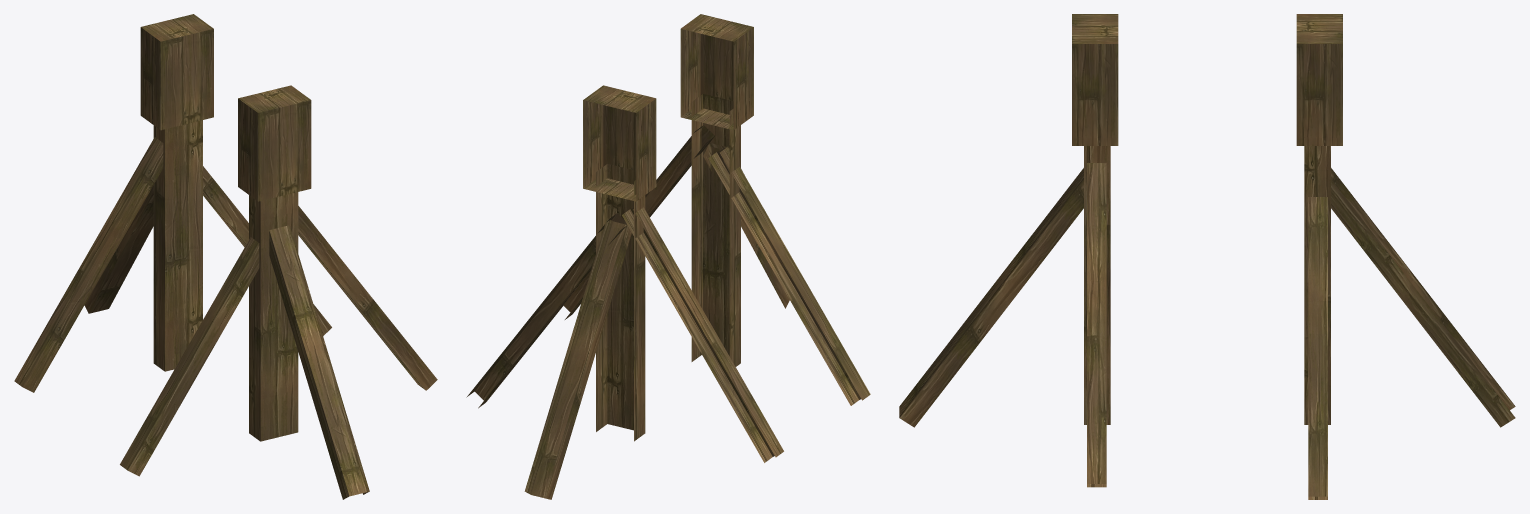
Rendered from SM_Town004_SCZJ.FBX.
3 views of the same model, side by side, from view 1: azimuth 30°, elevation 25°; view 2: azimuth 150°, elevation 25°; view 3: azimuth 270°, elevation 25° (orthographic). The views are drawn at different scales.
Parts seen in each view (by area): view 1: Box02; view 2: Box02; view 3: Box02.
Boxes of the visible parts, <box> form: Box02: <box>14,14,437,499</box>; Box02: <box>466,14,870,499</box>; Box02: <box>899,14,1515,499</box>.
Bounding box in the file's own units: 1592 × 2310 × 1625.
